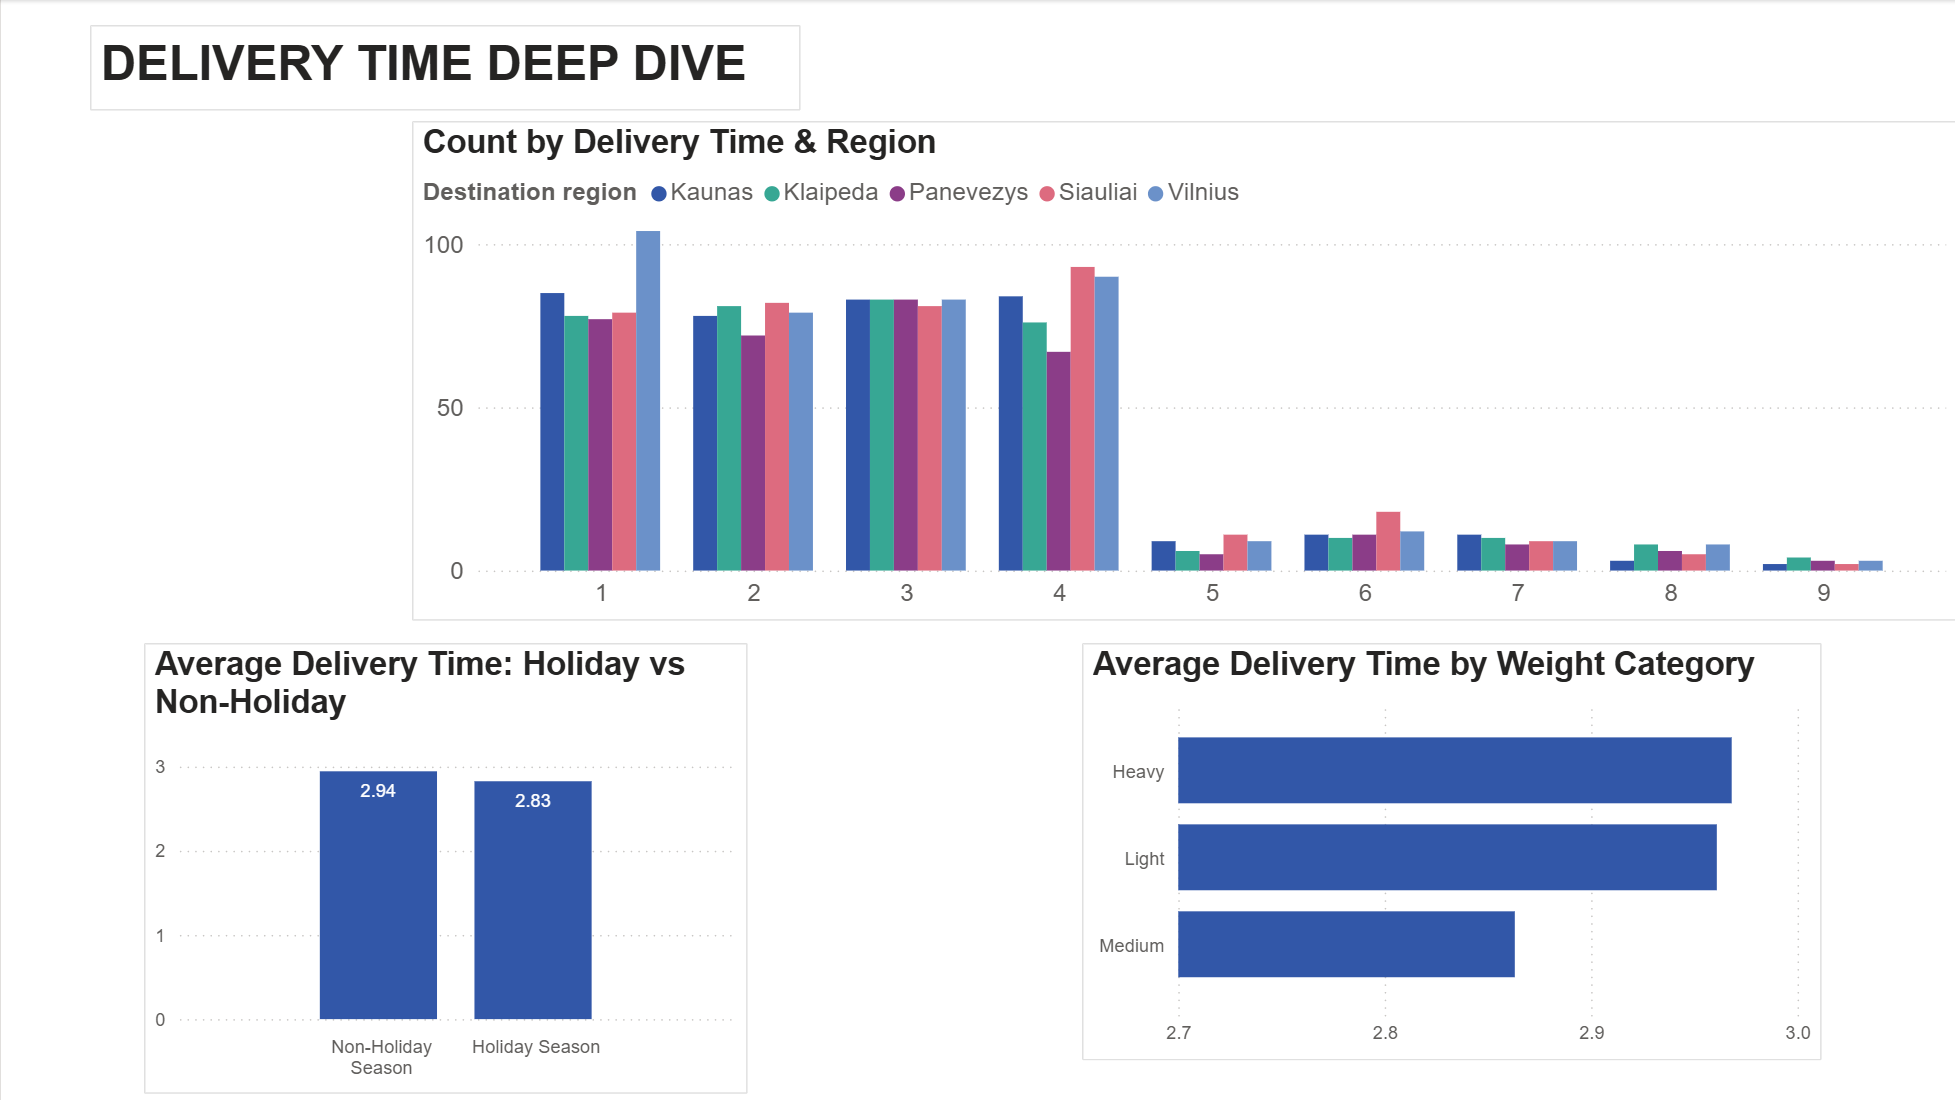

Layout of this report page (visuals, bound fields, positions):
{"tool":"powerbi","page":{"name":"Delivery Time Analysis","canvas":[1280,720],"ordinal":1},"visuals":[{"type":"clusteredColumnChart","title":"Count by Delivery Time & Region","fields":{"Category":["shipments.delivery_time"],"Y":["CountNonNull(shipments.shipment_id)"],"Series":["shipments.destination_region"]},"box":[269,79.2,1011,327.2],"z":0},{"type":"clusteredColumnChart","title":"Average Delivery Time: Holiday vs Non-Holiday","fields":{"Category":["shipments.Season Label"],"Y":["Avg(shipments.delivery_time)"]},"box":[93.6,420.8,395.3,295.1],"z":1000},{"type":"barChart","title":"Average Delivery Time by Weight Category","fields":{"Category":["shipments.weight_category"],"Y":["Avg(shipments.delivery_time)"]},"box":[707.4,420.8,484.3,272.9],"z":2000},{"type":"textbox","box":[58.2,16.4,465.3,55.6],"z":3000}]}

Visuals, with their boxes in screenshot pixels (x1, y1, x2, y2), scaled from the page's 1280x720 canvas onto the 1955x1100 screenshot:
"Count by Delivery Time & Region" clusteredColumnChart: 411/121/1954/621
"Average Delivery Time: Holiday vs Non-Holiday" clusteredColumnChart: 143/643/747/1094
"Average Delivery Time by Weight Category" barChart: 1080/643/1820/1060
textbox: 89/25/800/110
